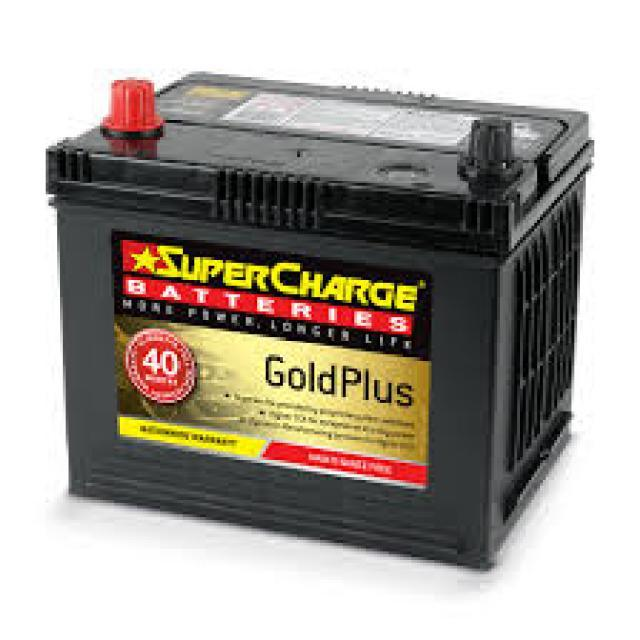battery: (49, 70, 586, 574)
